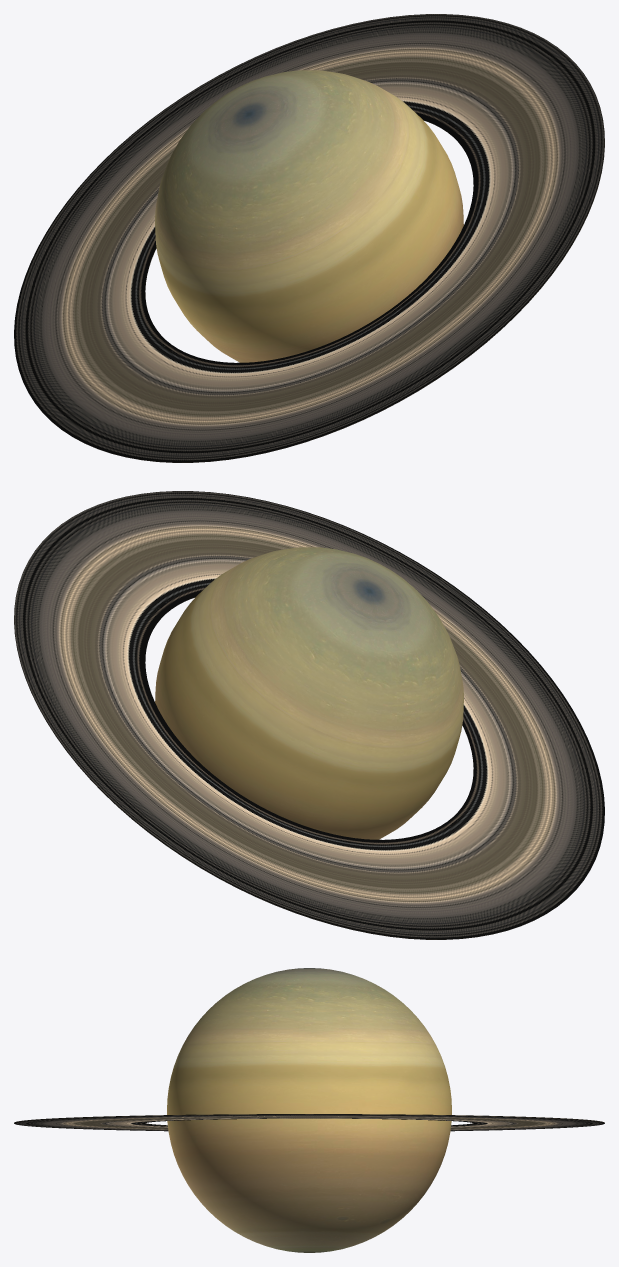
3 views of the same model, one above another, from view 1: azimuth 30°, elevation 25°; view 2: azimuth 150°, elevation 25°; view 3: azimuth 270°, elevation 25° (orthographic). The views are drawn at different scales.
Parts seen in each view (by area): view 1: saturn_rings_GEO_n3d, saturn_GEO_n3d; view 2: saturn_rings_GEO_n3d, saturn_GEO_n3d; view 3: saturn_GEO_n3d, saturn_rings_GEO_n3d.
Part boxes in pixels (x1,y1,x2,y2): saturn_rings_GEO_n3d: (14,14,604,462); saturn_GEO_n3d: (155,70,463,362); saturn_rings_GEO_n3d: (14,491,604,939); saturn_GEO_n3d: (155,547,463,839); saturn_GEO_n3d: (167,968,451,1252); saturn_rings_GEO_n3d: (14,1114,604,1131).
Size of the model in its own units: 0.3026 by 0.1659 by 0.3386.
Materials: 2 (2 with a texture image).
